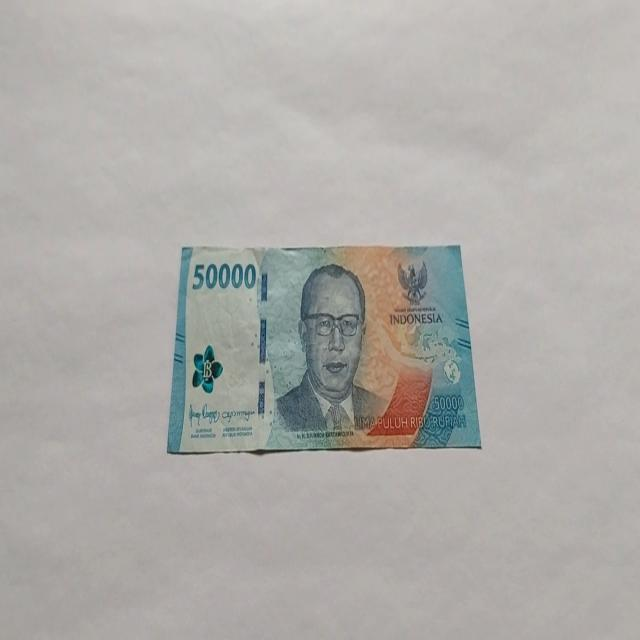lima puluh ribu rupiah: (166, 241, 482, 456), (274, 262, 386, 436)
